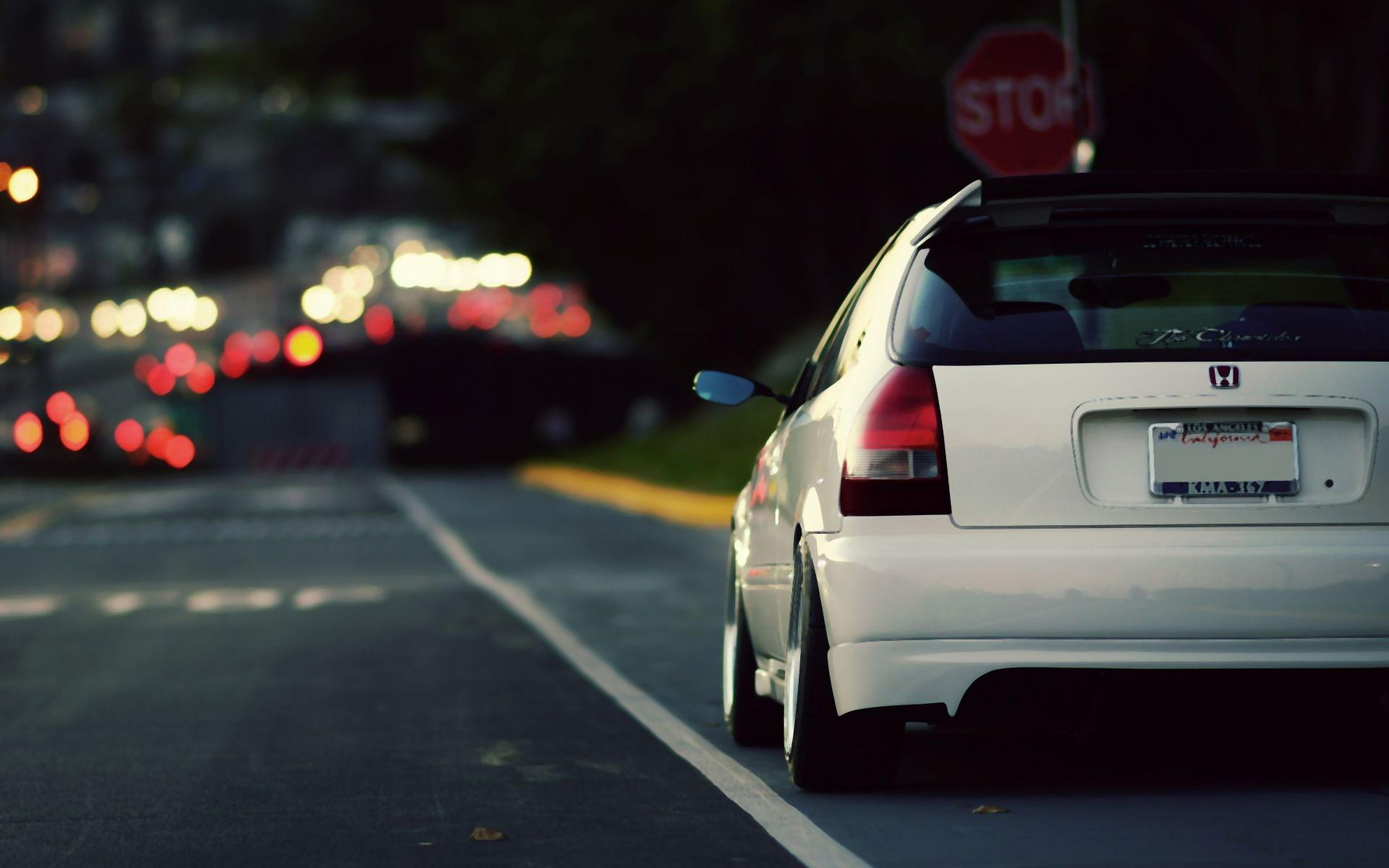Car boot: (883, 178, 1389, 534)
Rear bumper: (792, 517, 1389, 752)
Rear light - -L-: (831, 352, 960, 522)
Side bumper - -L-: (748, 647, 797, 707)
Side mirror - -L-: (677, 356, 793, 415)
